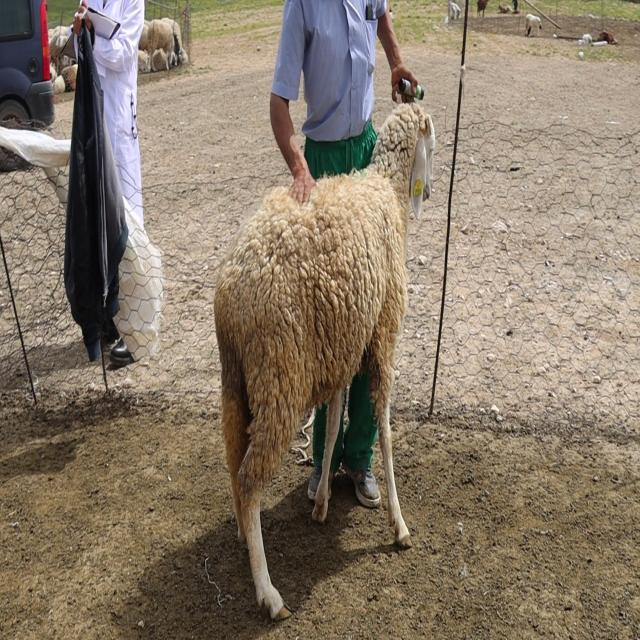Score_2: (214, 102, 435, 618)
